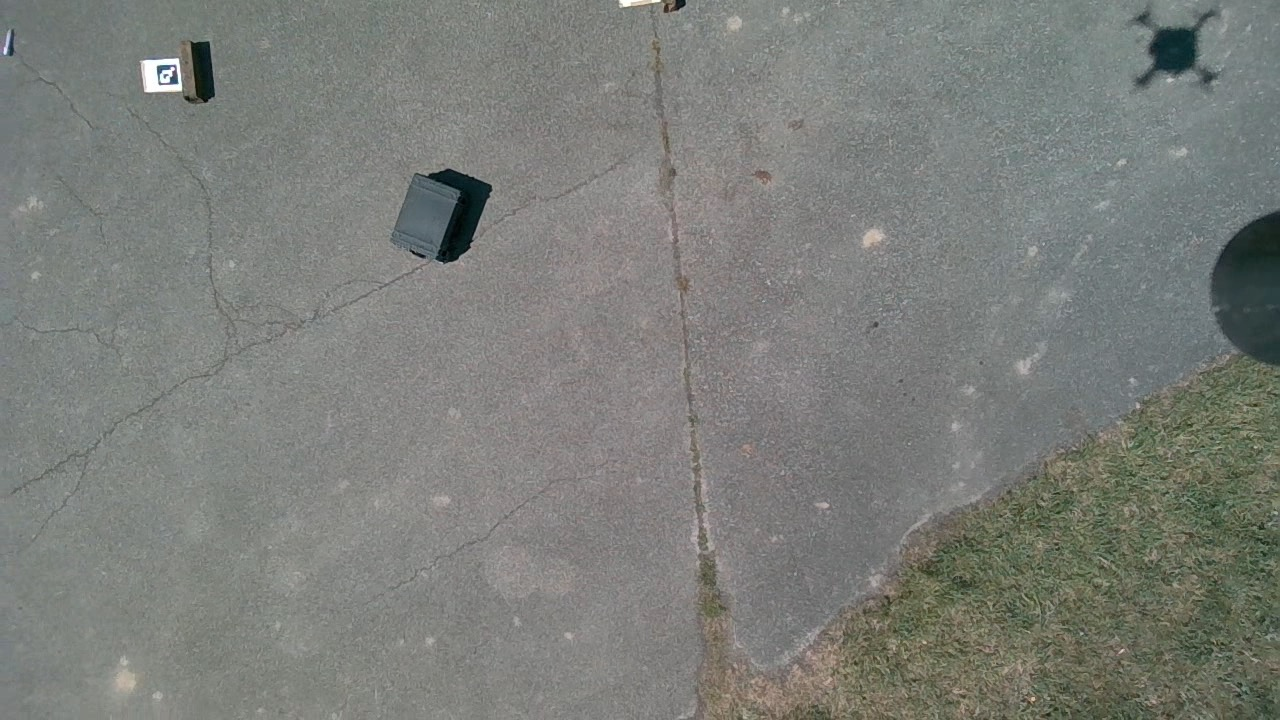probes: (0, 29, 13, 55)
rako: (392, 174, 463, 260)
